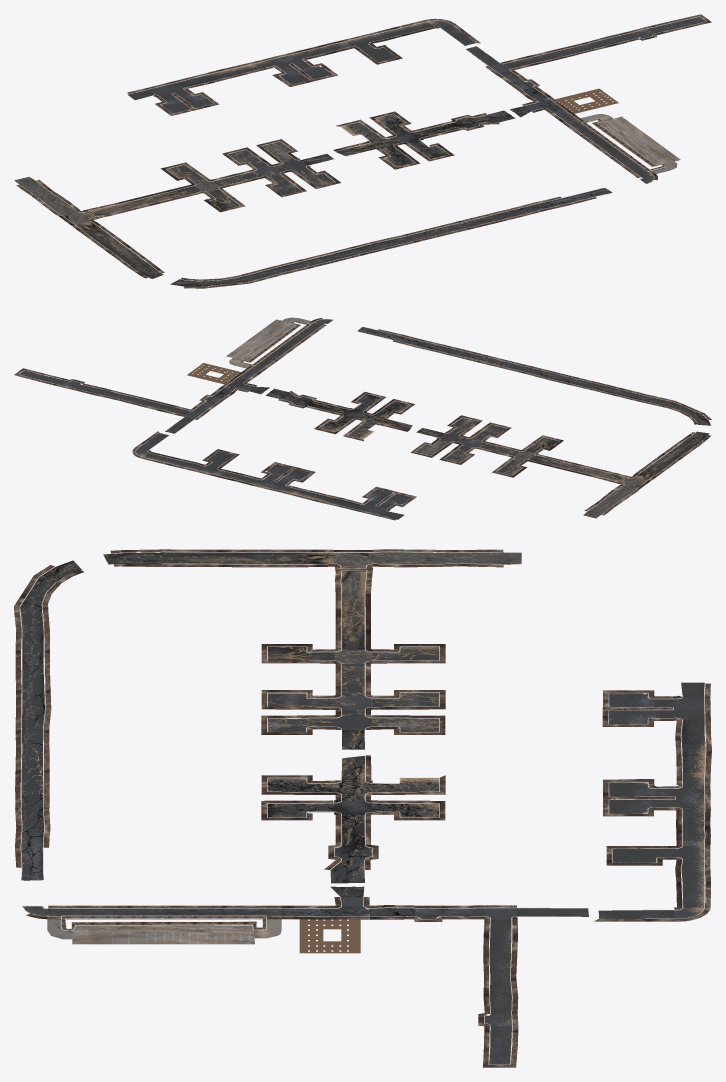
The model's file is NewRoads_Fixed_v2.fbx.
3 views of the same model, one above another, from view 1: azimuth 30°, elevation 25°; view 2: azimuth 150°, elevation 25°; view 3: azimuth 270°, elevation 25° (orthographic). The views are drawn at different scales.
Parts seen in each view (by area): view 1: polySurface450_GAME_READY.001__RETEXTURE_MERGED, Sidewalk_RoadNetwork, Curb_Blocks_RoadNetwork, polySurface450_GAME_READY.001__PArking_texture, polySurface450_GAME_READY.001__FLOOR_TEXTURE, Sidewalk; view 2: polySurface450_GAME_READY.001__RETEXTURE_MERGED, Sidewalk_RoadNetwork, Curb_Blocks_RoadNetwork, polySurface450_GAME_READY.001__PArking_texture, polySurface450_GAME_READY.001__FLOOR_TEXTURE, Sidewalk; view 3: polySurface450_GAME_READY.001__RETEXTURE_MERGED, Sidewalk_RoadNetwork, Curb_Blocks_RoadNetwork, polySurface450_GAME_READY.001__PArking_texture, polySurface450_GAME_READY.001__FLOOR_TEXTURE, Sidewalk, Curb_Blocks.
Boxes of the visible parts, left/top/right/bottom form: polySurface450_GAME_READY.001__RETEXTURE_MERGED: left=14, top=17, right=705, bottom=286; Sidewalk_RoadNetwork: left=16, top=14, right=711, bottom=288; Curb_Blocks_RoadNetwork: left=19, top=16, right=706, bottom=286; polySurface450_GAME_READY.001__PArking_texture: left=580, top=114, right=680, bottom=173; polySurface450_GAME_READY.001__FLOOR_TEXTURE: left=551, top=88, right=618, bottom=113; Sidewalk: left=582, top=118, right=664, bottom=170; polySurface450_GAME_READY.001__RETEXTURE_MERGED: left=19, top=319, right=710, bottom=519; Sidewalk_RoadNetwork: left=14, top=318, right=711, bottom=520; Curb_Blocks_RoadNetwork: left=18, top=319, right=701, bottom=515; polySurface450_GAME_READY.001__PArking_texture: left=226, top=317, right=310, bottom=368; polySurface450_GAME_READY.001__FLOOR_TEXTURE: left=187, top=363, right=240, bottom=384; Sidewalk: left=239, top=321, right=310, bottom=365; polySurface450_GAME_READY.001__RETEXTURE_MERGED: left=20, top=552, right=705, bottom=1064; Sidewalk_RoadNetwork: left=14, top=549, right=711, bottom=1067; Curb_Blocks_RoadNetwork: left=19, top=551, right=706, bottom=1064; polySurface450_GAME_READY.001__PArking_texture: left=47, top=917, right=281, bottom=944; polySurface450_GAME_READY.001__FLOOR_TEXTURE: left=299, top=919, right=360, bottom=953; Sidewalk: left=61, top=916, right=265, bottom=930; Curb_Blocks: left=61, top=915, right=266, bottom=931.
Bounding box in the file's own units: 44018 × 38.52 × 25060.
